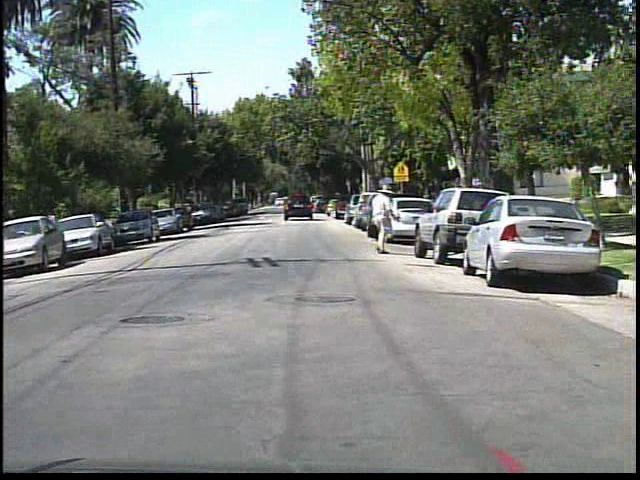person: (358, 184, 402, 258)
